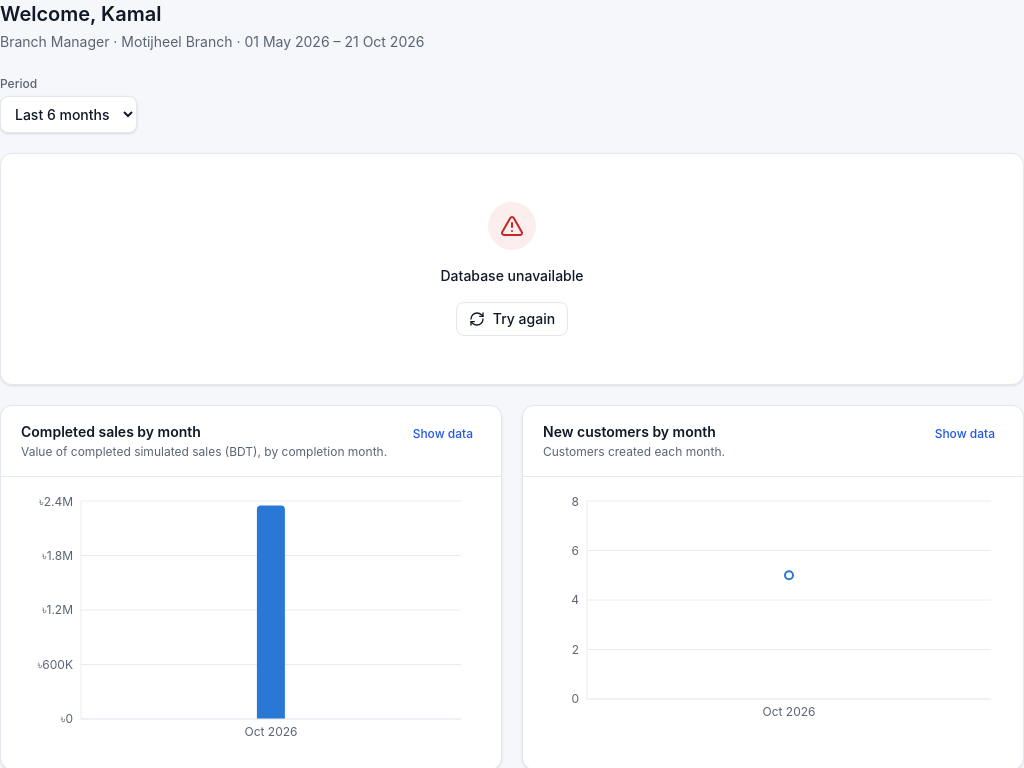
Test: DashboardPage › shows an error with retry when the summary fails
Expected: the text "Database unavailable" is shown, left=440, top=266, right=584, bottom=286
Click the button "Try again" at {"x": 512, "y": 319}, box left=456, top=302, right=568, bottom=336
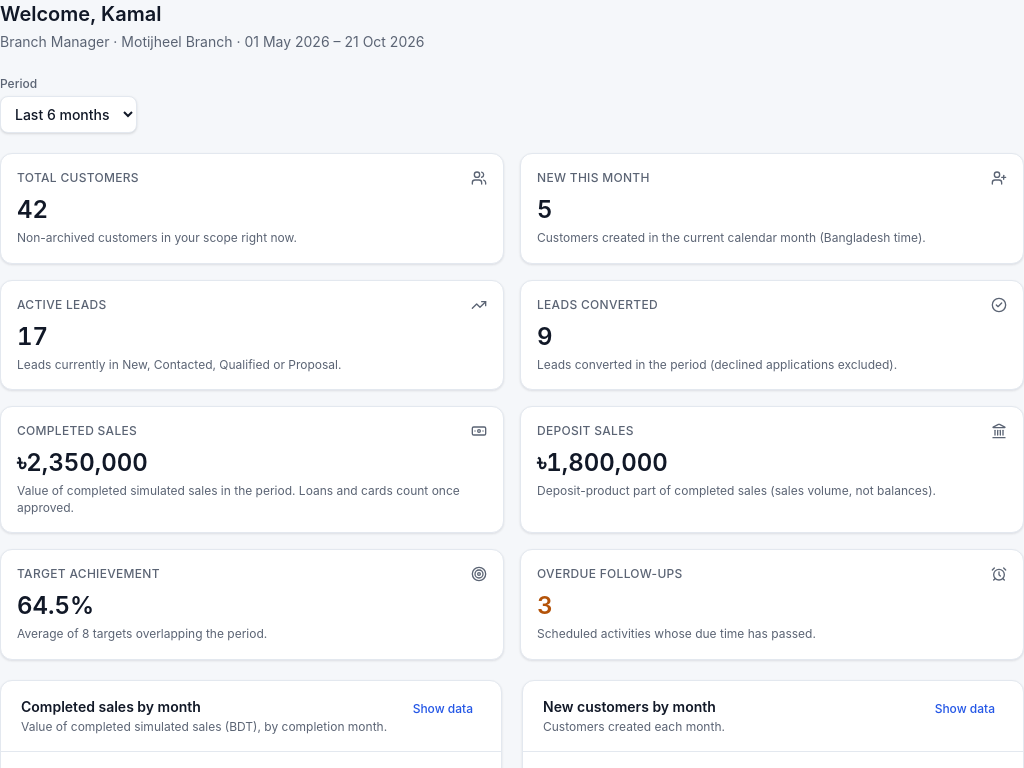
Expected: the text "৳2,350,000" is shown, left=17, top=448, right=148, bottom=477
